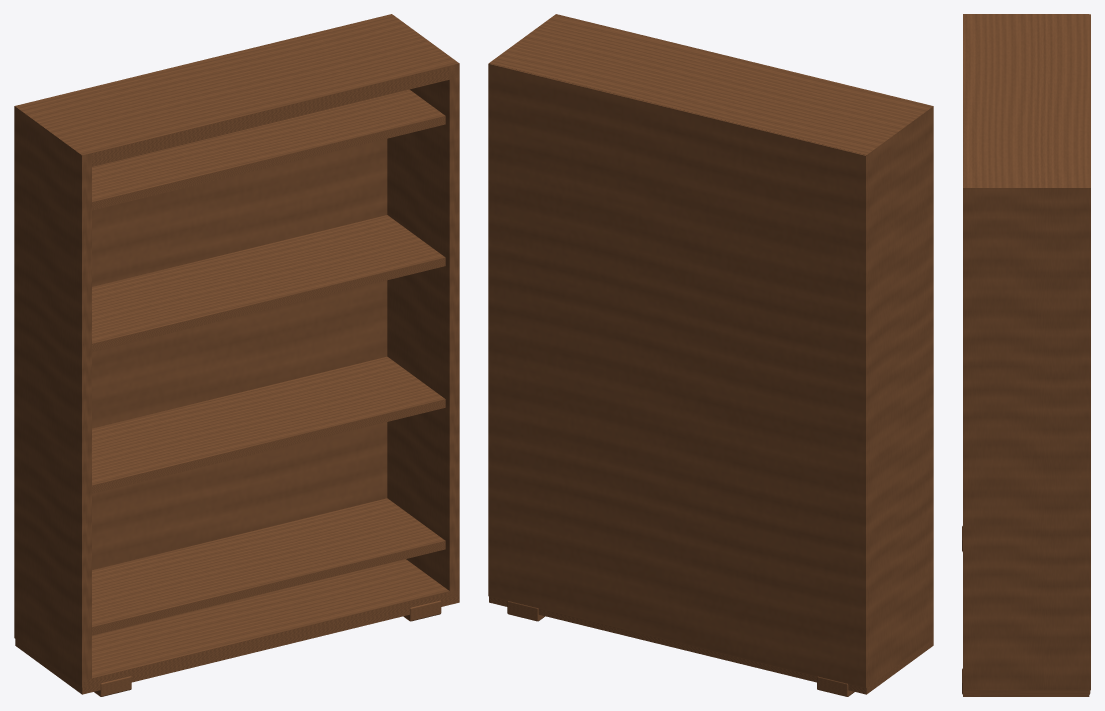
Rendered from bookcase_engawa-86d0b9ceb99d.glb.
3 views of the same model, side by side, from view 1: azimuth 30°, elevation 25°; view 2: azimuth 150°, elevation 25°; view 3: azimuth 270°, elevation 25° (orthographic). The views are drawn at different scales.
Parts seen in each view (by area): view 1: surface_walnut; view 2: surface_walnut; view 3: surface_walnut.
Boxes of the visible parts, x1,y1,x2,y2 form: surface_walnut: [14, 14, 459, 696]; surface_walnut: [488, 14, 933, 696]; surface_walnut: [962, 14, 1090, 696].
Bounding box in the file's own units: 1.11 × 1.53 × 0.346.
Materials: 1 (1 with a texture image).
